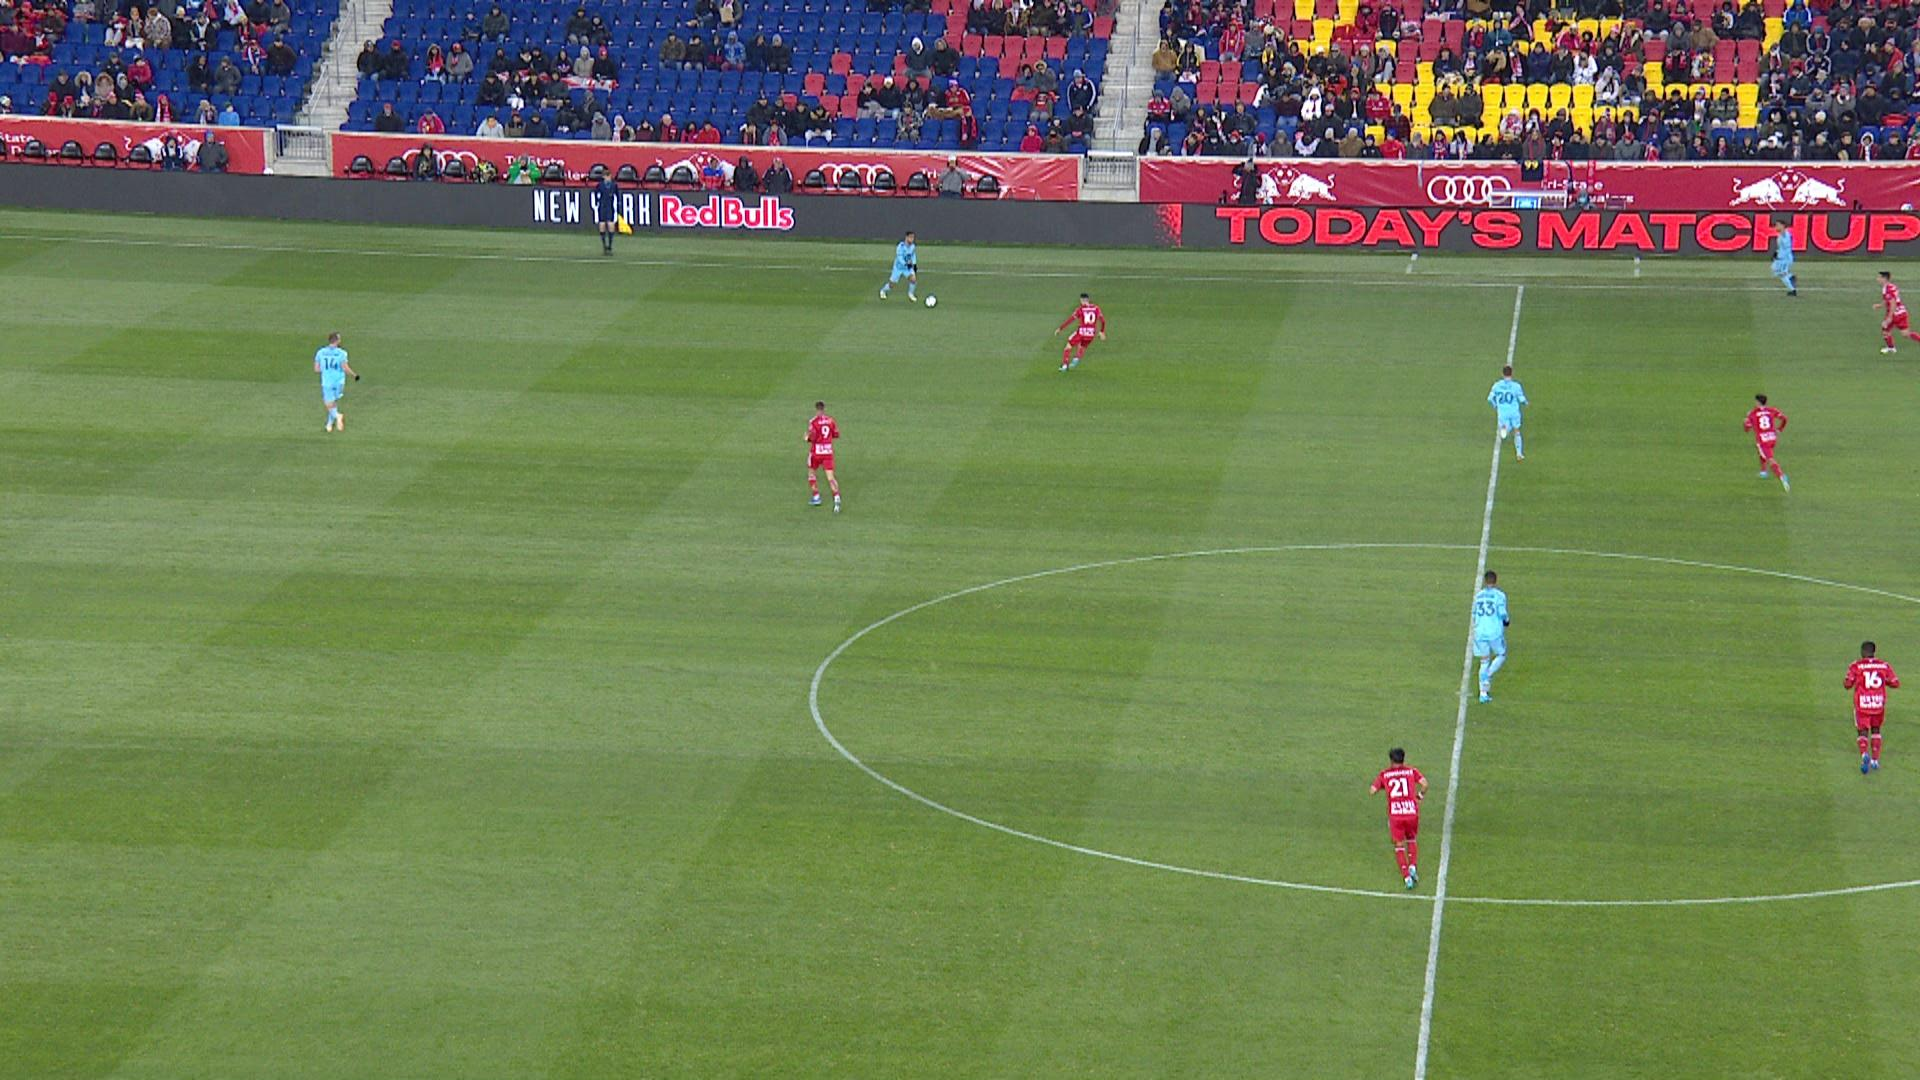football: (924, 294, 938, 309)
